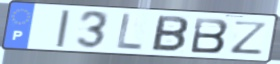3: (75, 9, 110, 51)
B: (150, 14, 191, 54), (189, 16, 231, 55)
I: (54, 9, 72, 49)
L: (114, 12, 144, 53)
Z: (230, 20, 271, 56)
